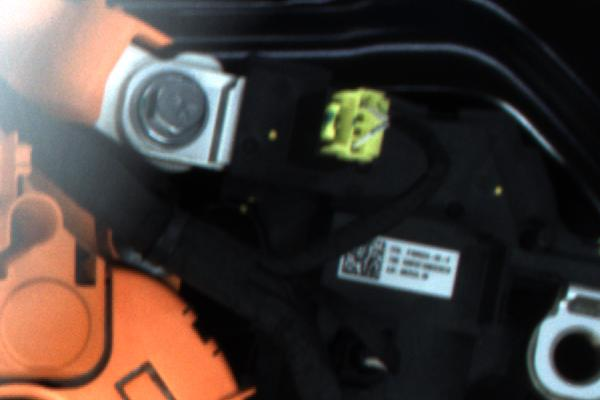nut_b: (127, 73, 222, 144)
